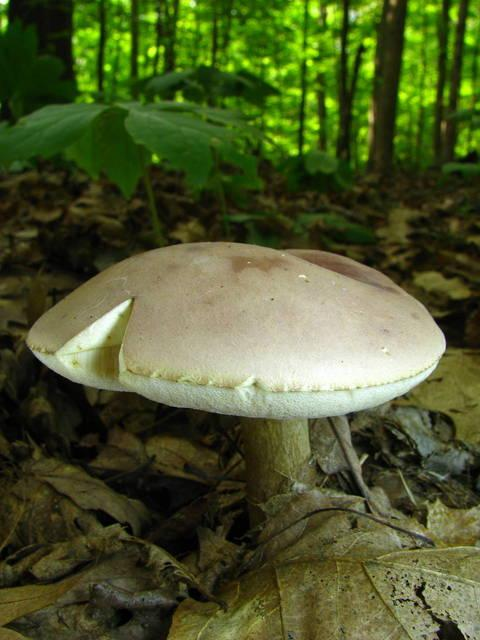poisonous_mushroom: (24, 239, 447, 532)
